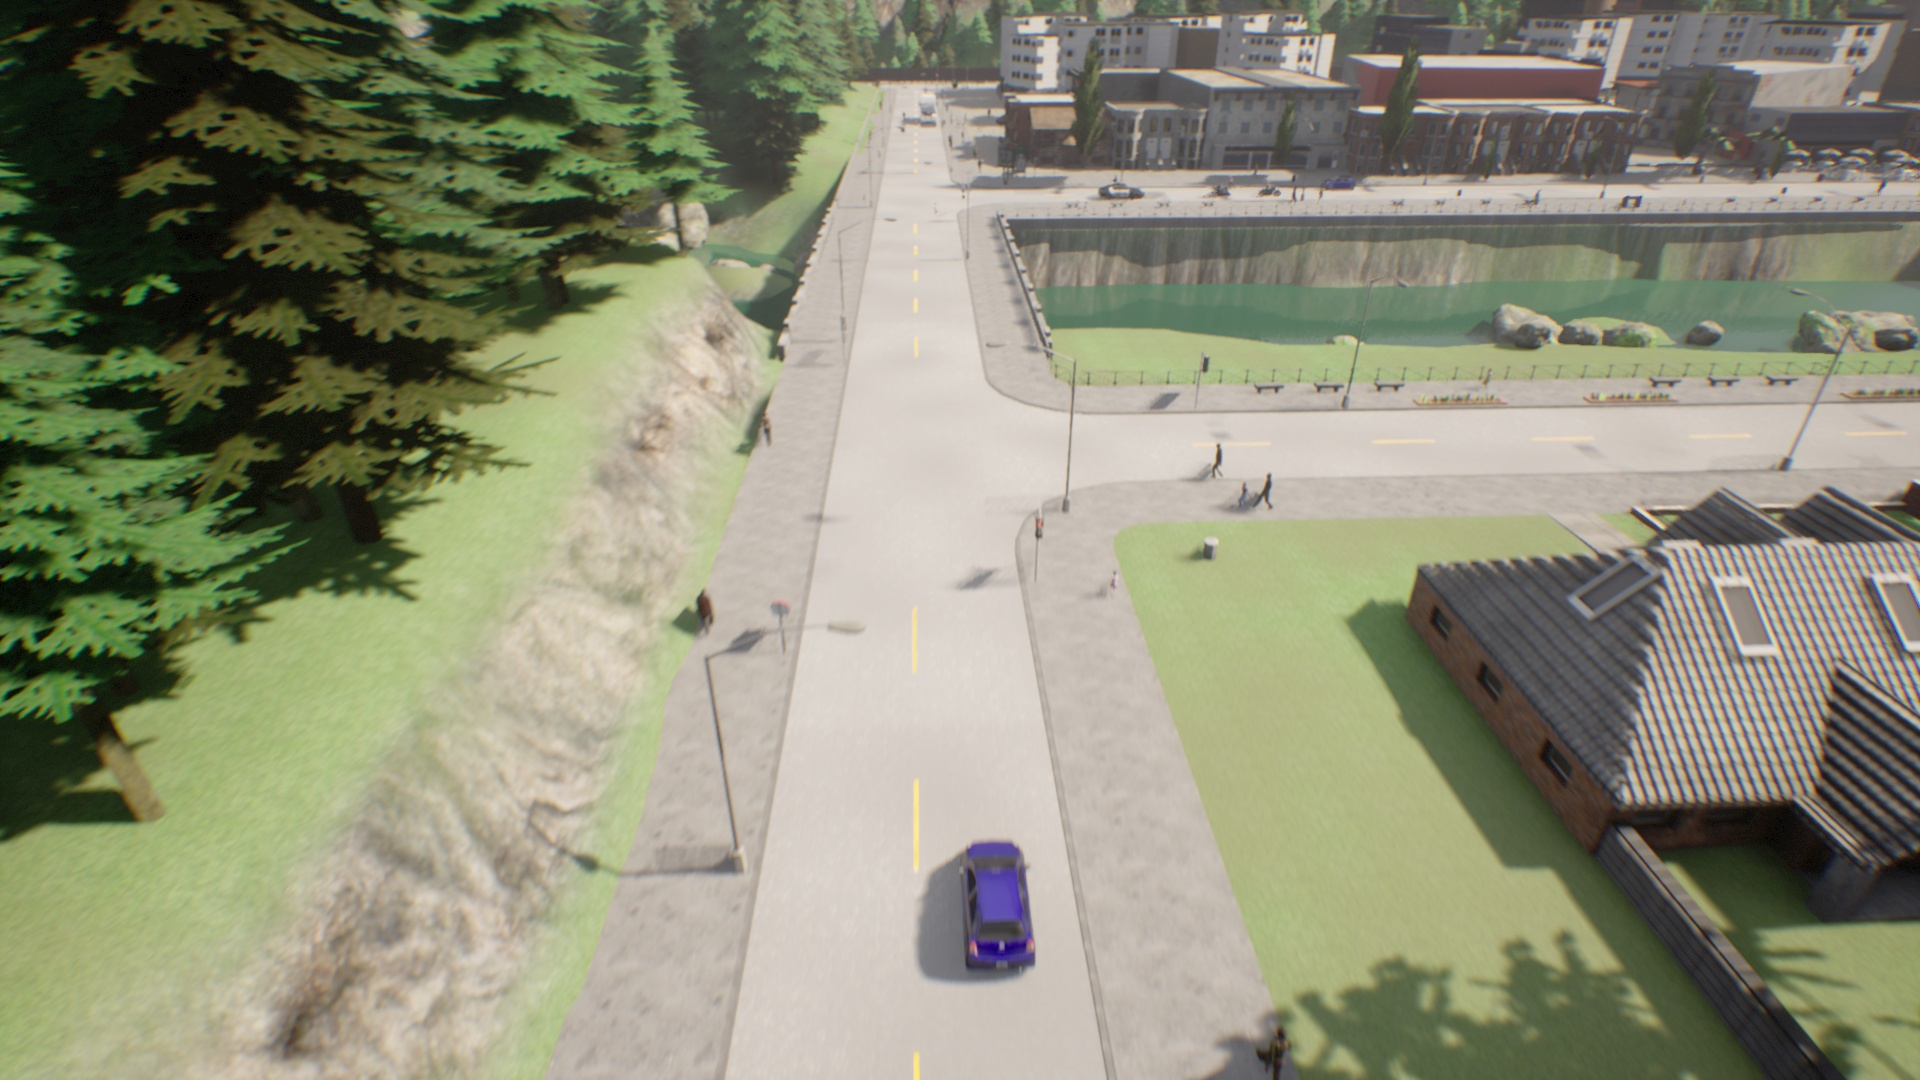Bus: (915, 91, 939, 132)
Car: (957, 831, 1040, 973), (1098, 179, 1151, 200), (1325, 175, 1358, 193)
Motorcycle: (1257, 181, 1286, 198), (1207, 181, 1233, 199)
